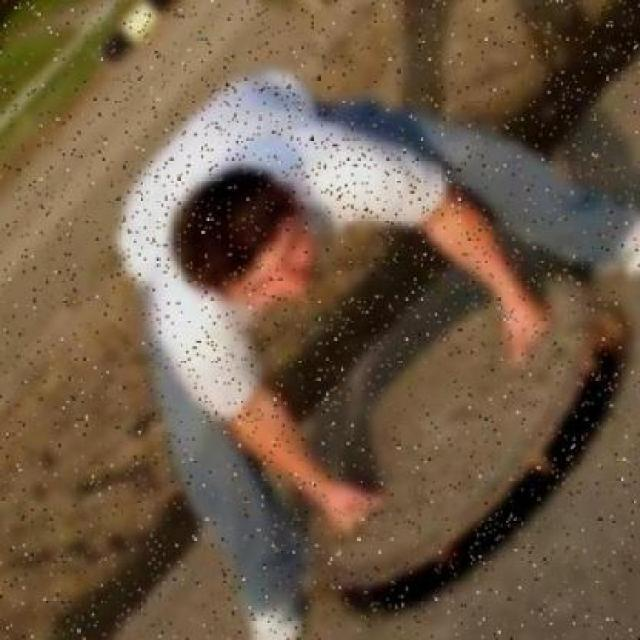Manhole: (292, 314, 638, 594)
